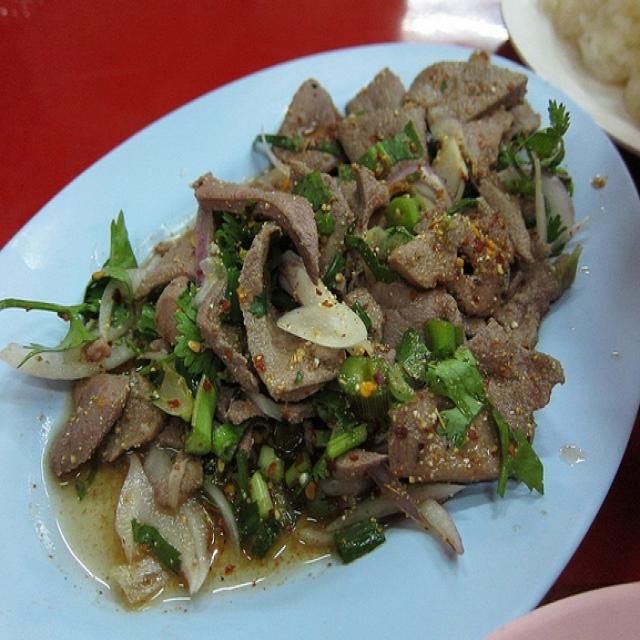猪肉菜式: (16, 24, 606, 615)
